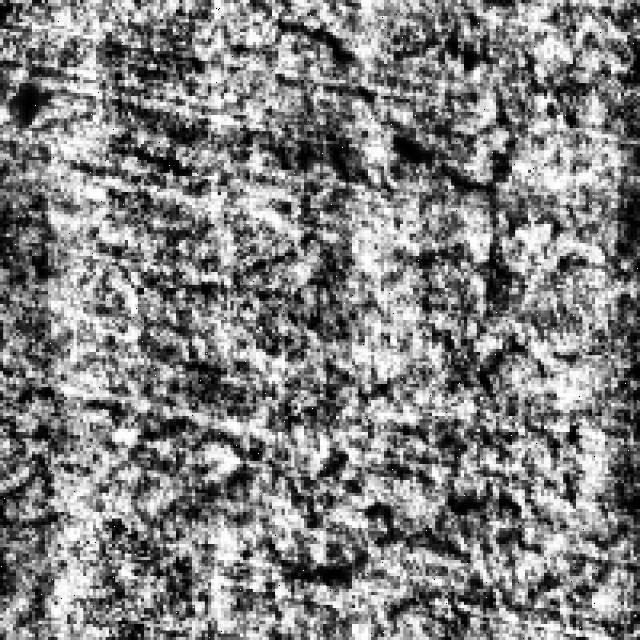Pitted_Surface: (12, 374, 532, 582), (246, 10, 532, 198)
